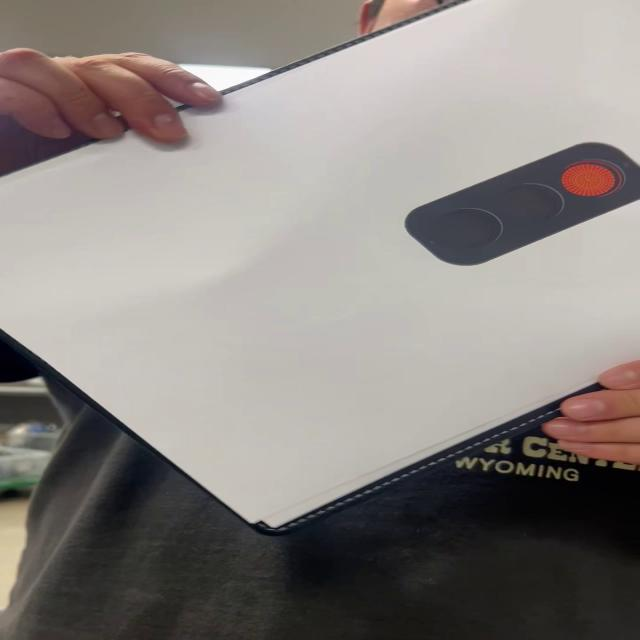red: (398, 142, 640, 267)
